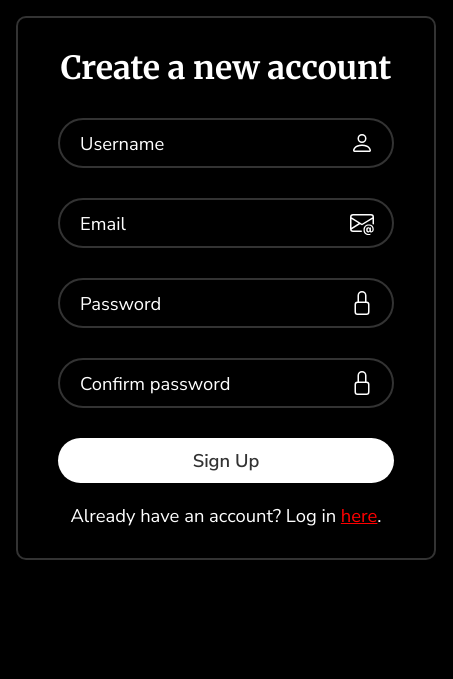
Test: sign up › errors › shows error when provided passwords dont match
Type "username" into the field with placeholder "Username" at (226, 143), box left=58, top=118, right=394, bottom=168
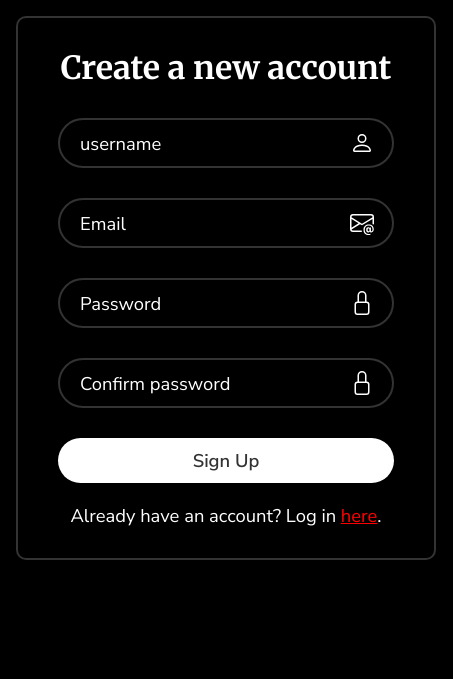
Type "goodemail@gmail.com" into the field with placeholder "Email" at (226, 223), box left=58, top=198, right=394, bottom=248
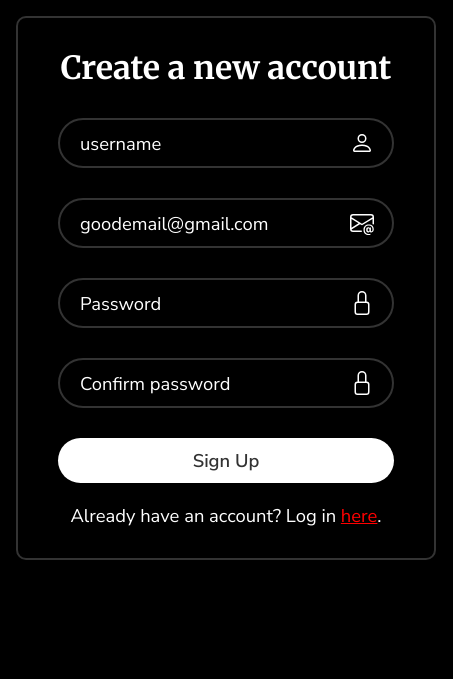
Type "password" into the password field with placeholder "Password" at (226, 303), box left=58, top=278, right=394, bottom=328
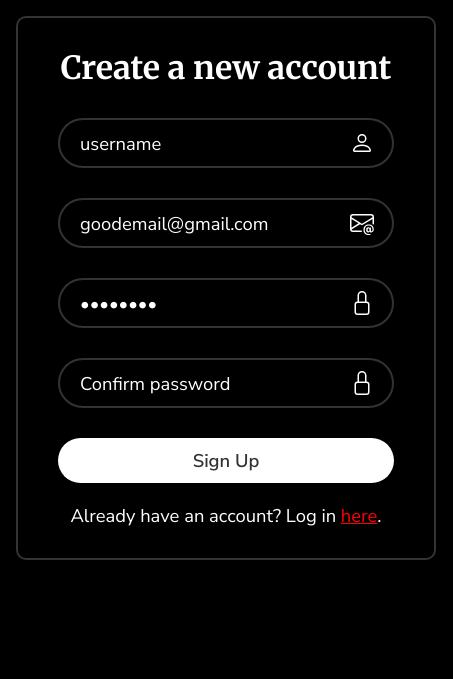
Type "passwor" into the password field with placeholder "Confirm password" at (226, 383), box left=58, top=358, right=394, bottom=408
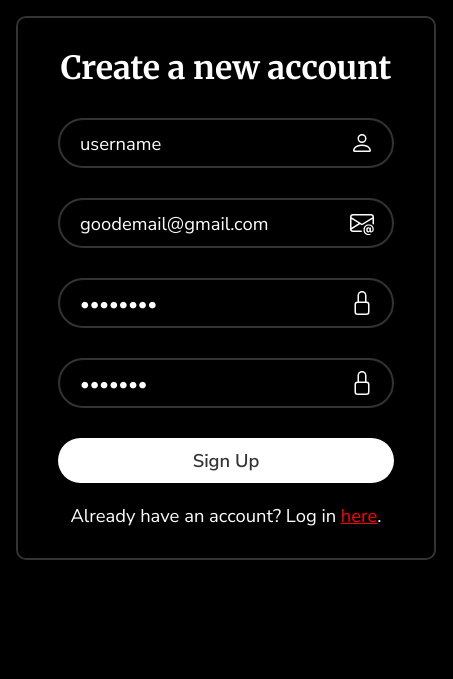
Click the button with test id "sign-up-button" at (226, 460), box left=58, top=438, right=394, bottom=483
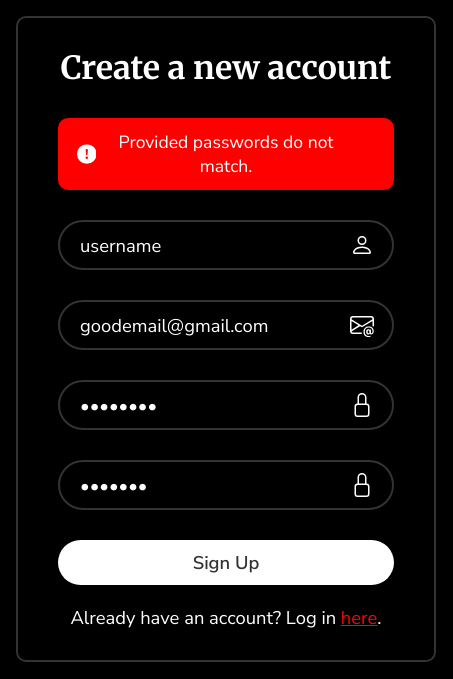
Check: the text "Provided passwords do not match." is shown, box left=58, top=118, right=394, bottom=190
